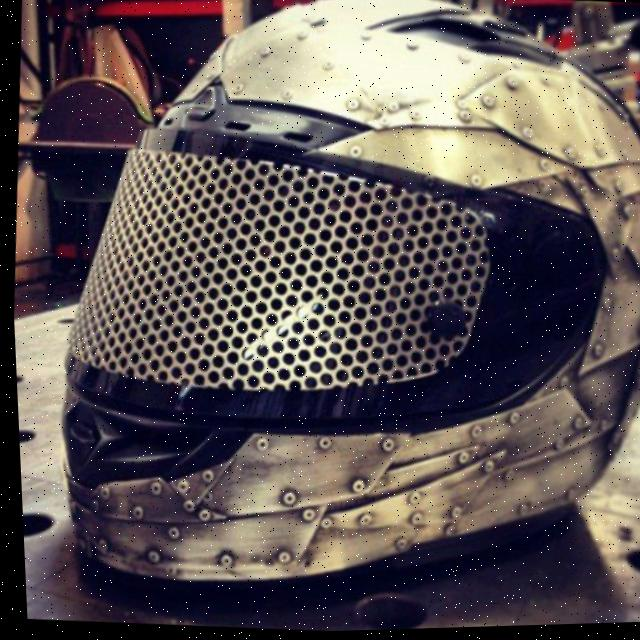illegal_helmet: (25, 0, 640, 627)
